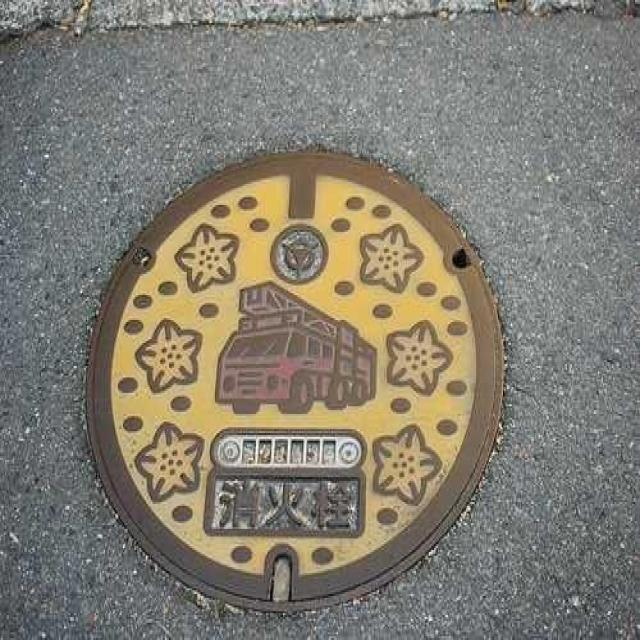manhole: (84, 151, 507, 615)
